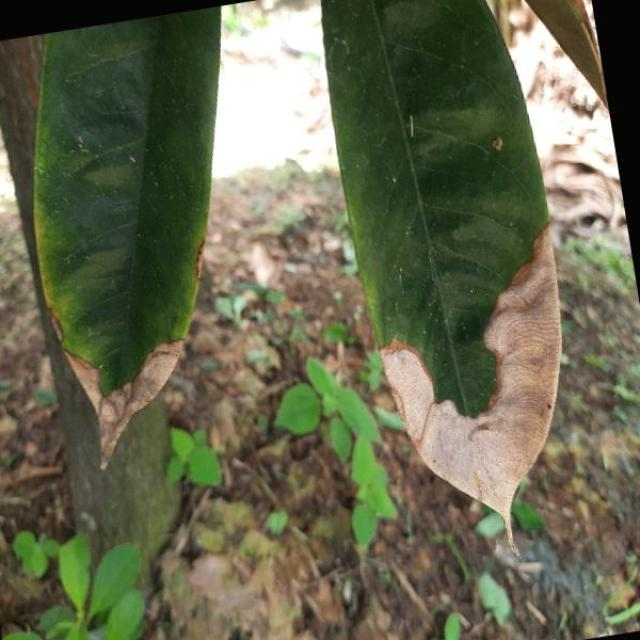Leaf Blight: (304, 0, 607, 560), (0, 5, 294, 476)
